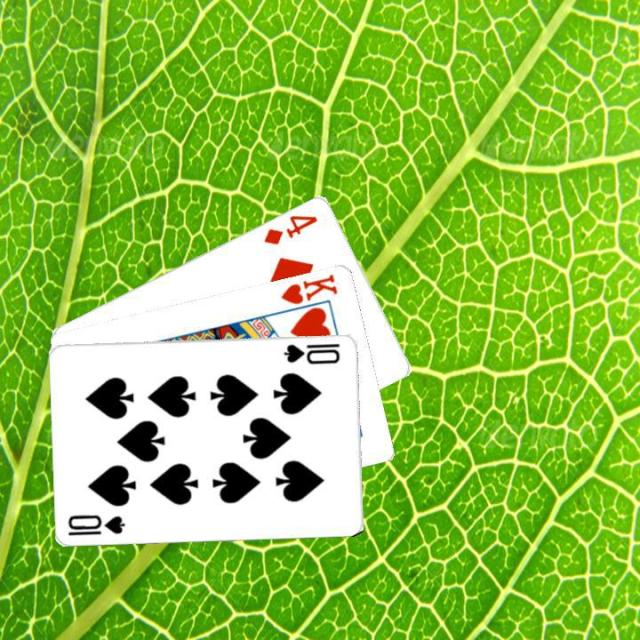10S: (64, 510, 128, 537), (280, 339, 342, 365)
4D: (260, 211, 320, 246)
KH: (278, 269, 340, 306)
